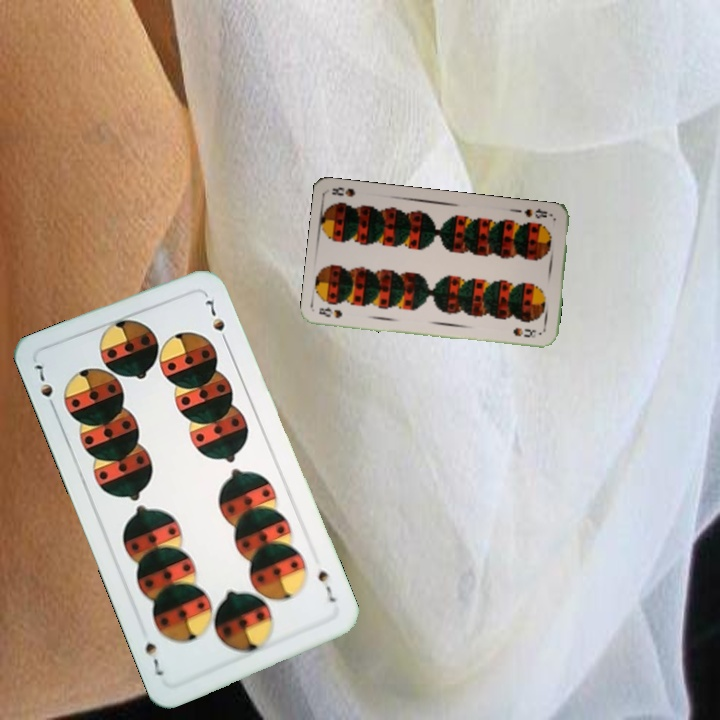S7: (29, 360, 59, 415), (314, 566, 339, 605)
S8: (520, 204, 555, 221), (315, 303, 345, 321)
